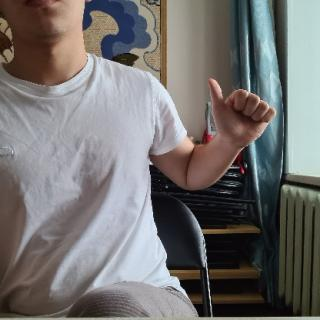DAD: (203, 75, 280, 151)
